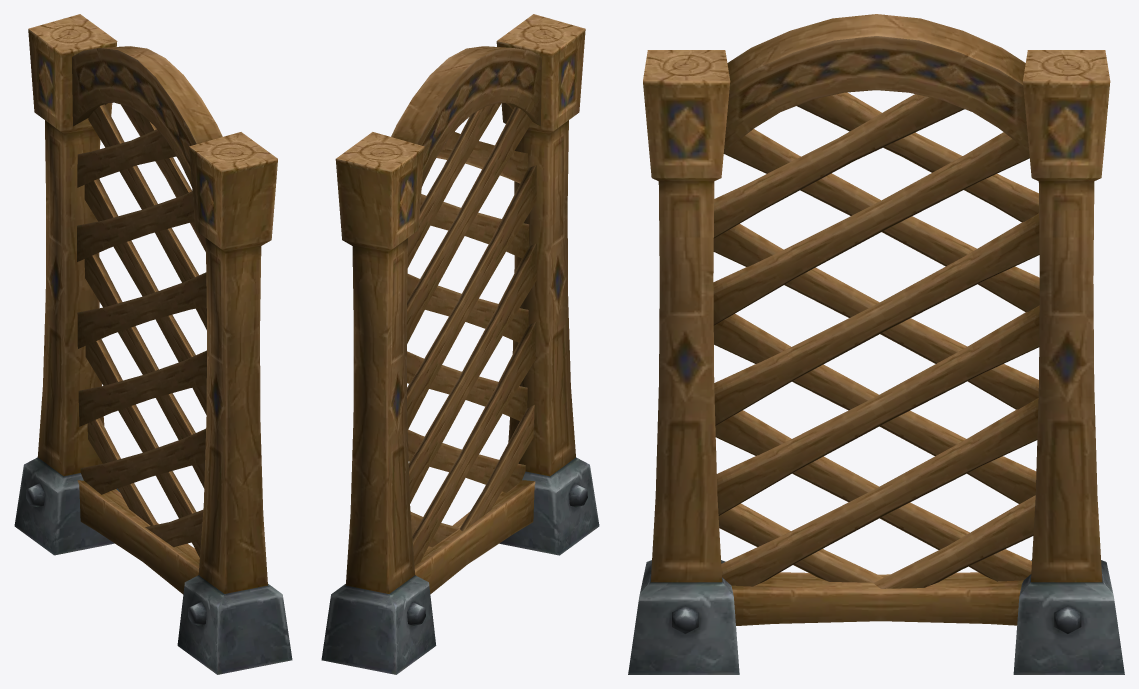
3 renders of one model, left to right at view 1: azimuth 30°, elevation 25°; view 2: azimuth 150°, elevation 25°; view 3: azimuth 270°, elevation 25°, orthographic. The views are drawn at different scales.
Size of the model in its own units: 1.26 by 7.85 by 5.59.
1 material, 1 textured.
